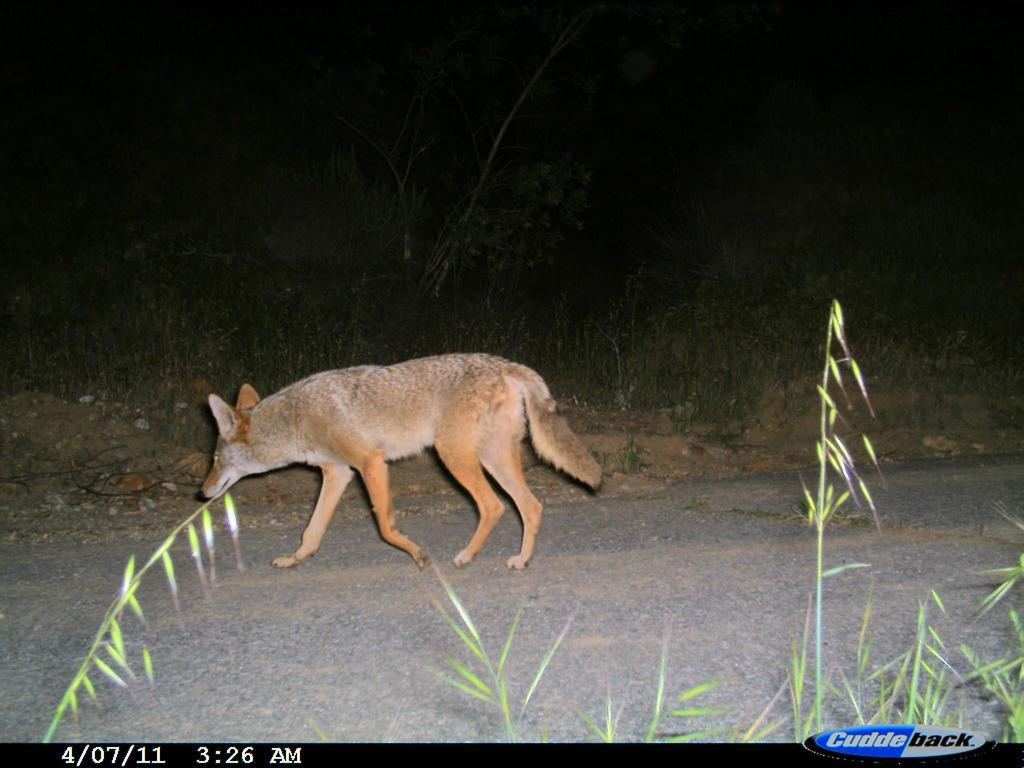coyote: (193, 341, 614, 578)
